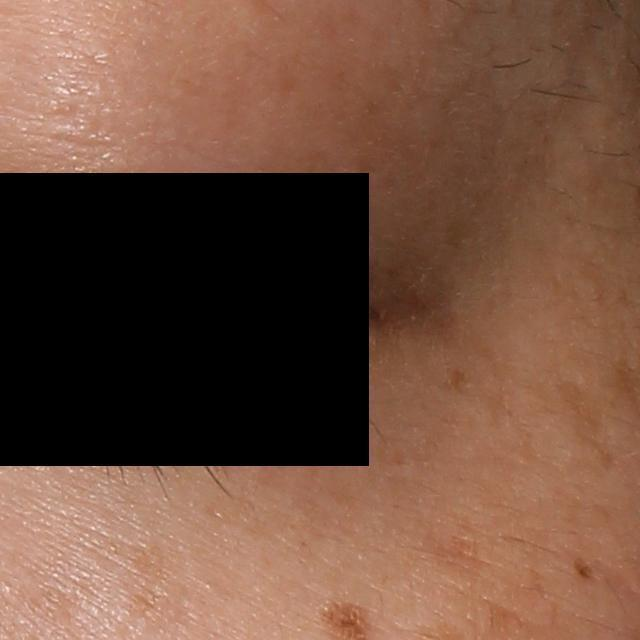melasma: (557, 377, 616, 473), (428, 530, 487, 585), (438, 359, 472, 402), (571, 557, 596, 578)
